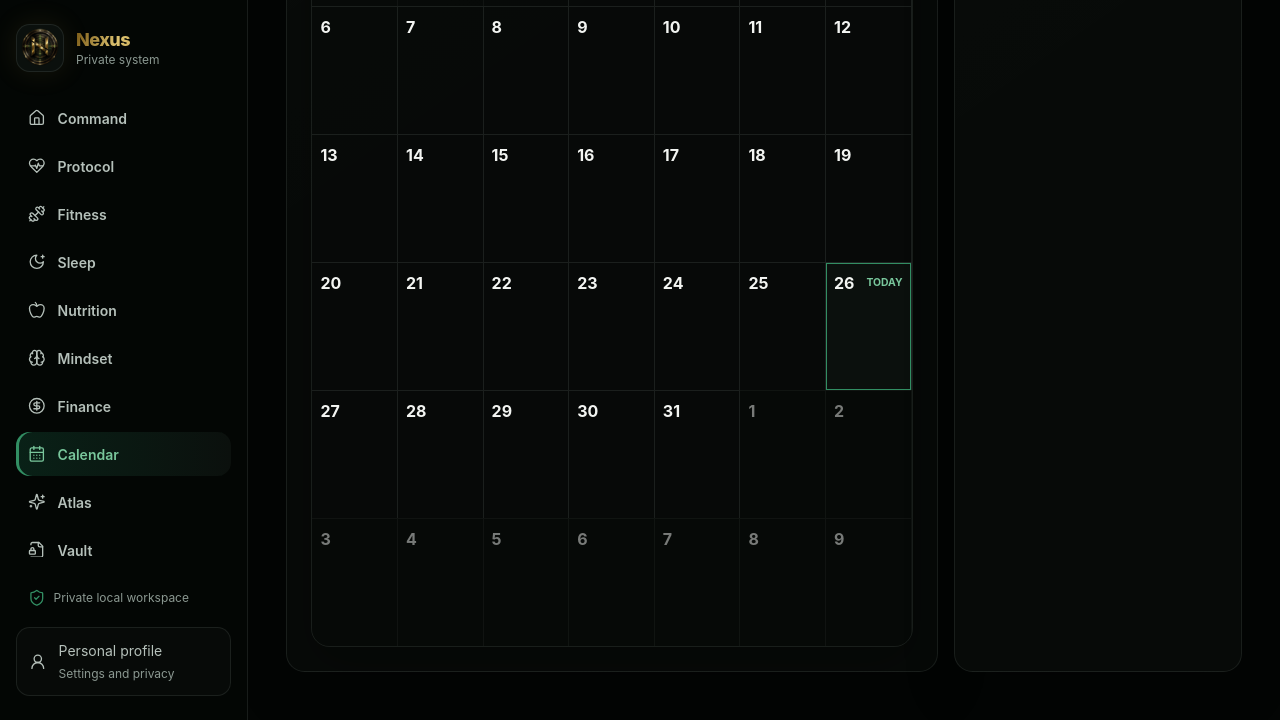
it: Calendar Phase 2 workflows › renders a stable Month grid and adds to a selected date
(page scrolled)
Click the button "30". click: (612, 411)
box: x1=577 y1=399 x2=646 y2=423
(page scrolled)
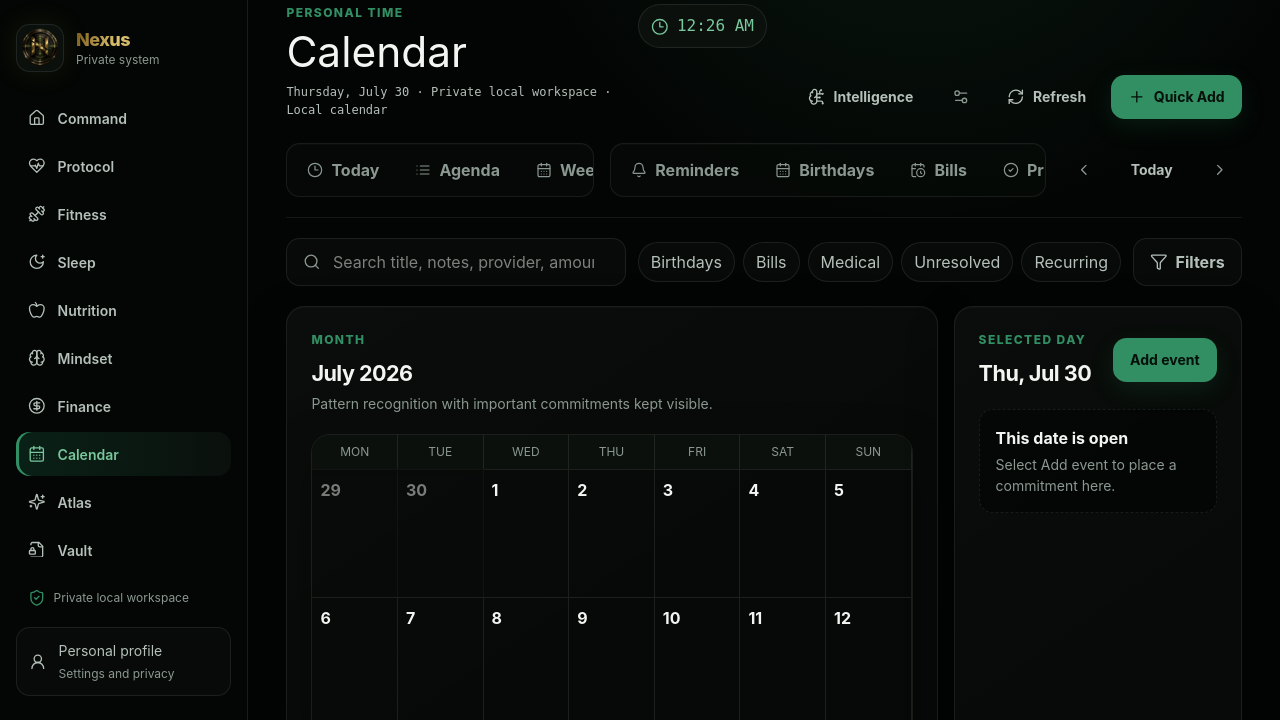
Click the button "Add event". click: (1165, 360)
box: x1=1113 y1=338 x2=1217 y2=382
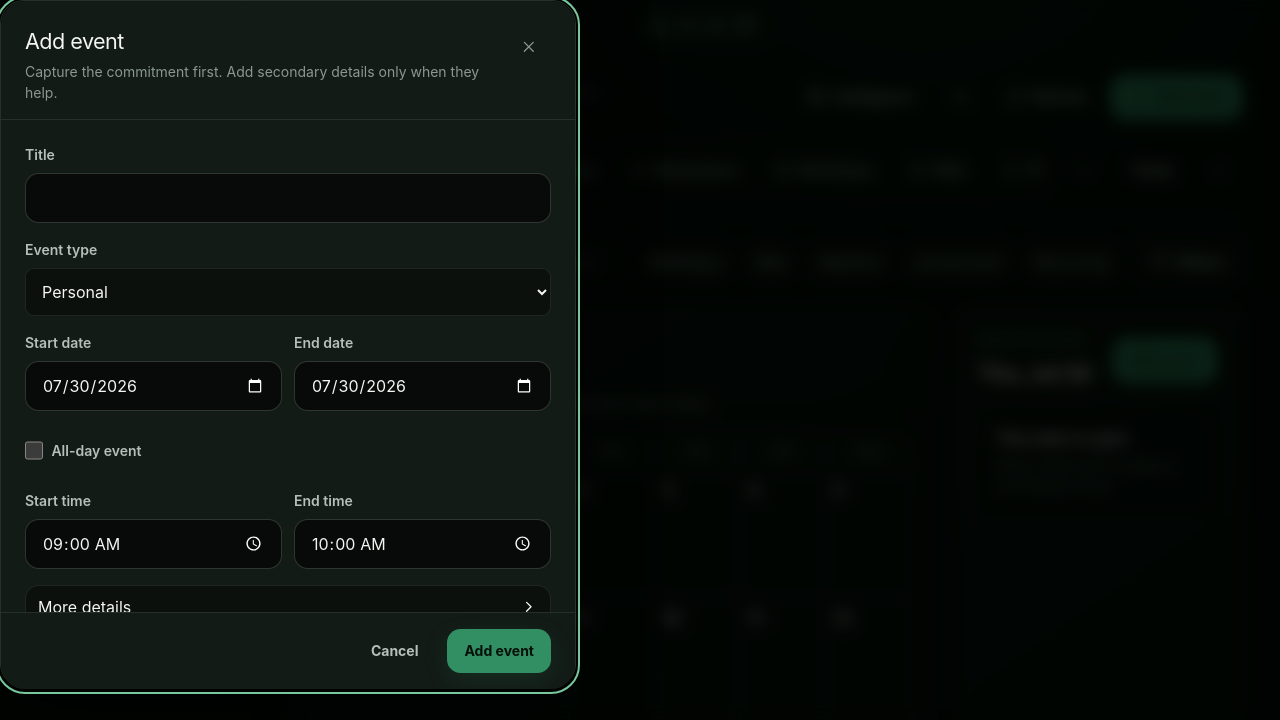
Now the date field labelled "Start date" holds "2026-07-30", box x1=25 y1=361 x2=282 y2=411
